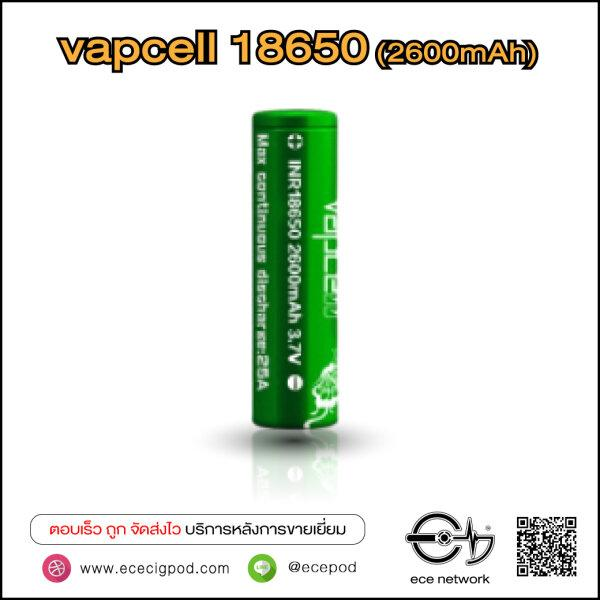Battery: (243, 103, 345, 435)
